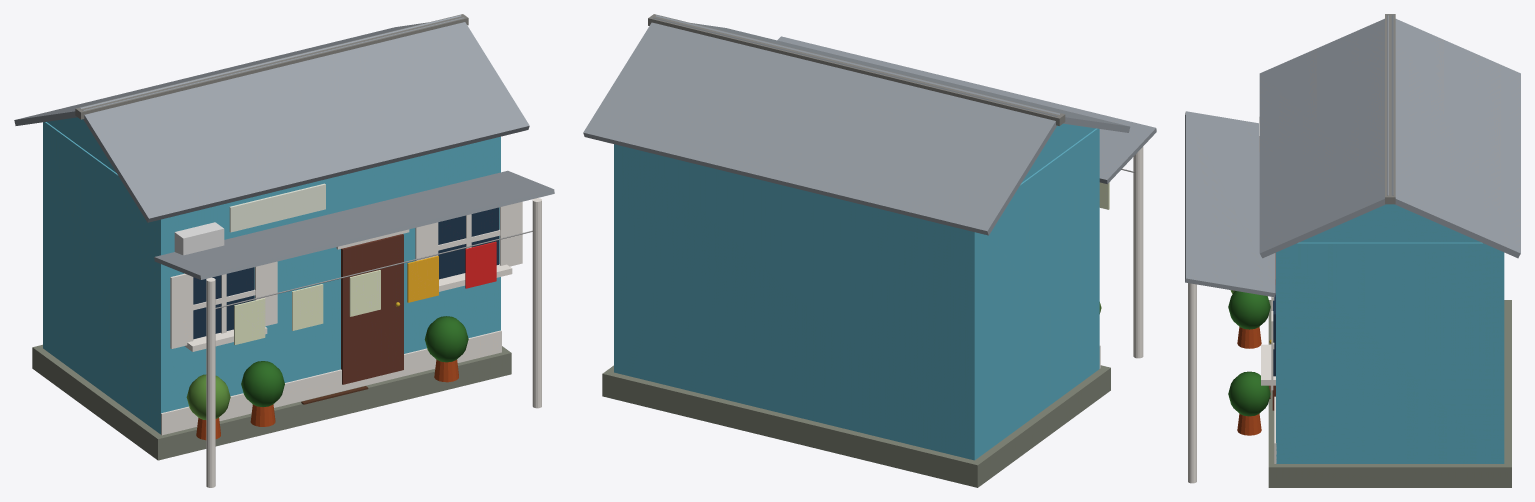
Rendered from house-ambon-a.glb.
3 renders of one model, left to right at view 1: azimuth 30°, elevation 25°; view 2: azimuth 150°, elevation 25°; view 3: azimuth 270°, elevation 25°, orthographic. The views are drawn at different scales.
Visible parts, largest first — view 1: Cube; view 2: Cube; view 3: Cube.
Part boxes in pixels (x1,y1,x2,y2): Cube: [14, 14, 554, 487]; Cube: [583, 14, 1156, 487]; Cube: [1185, 14, 1520, 487].
Bounding box in the file's own units: 1.31 × 1 × 1.02.
1 material, 1 textured.
